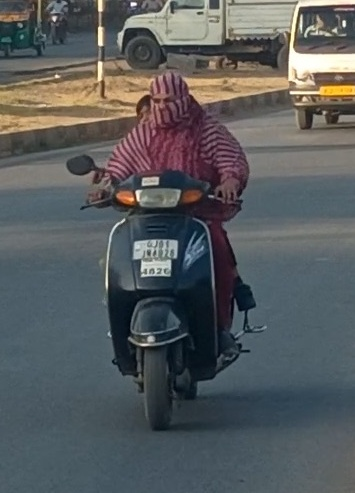BikeWithRider: (63, 66, 273, 434)
NoHelmet: (141, 67, 198, 130)
